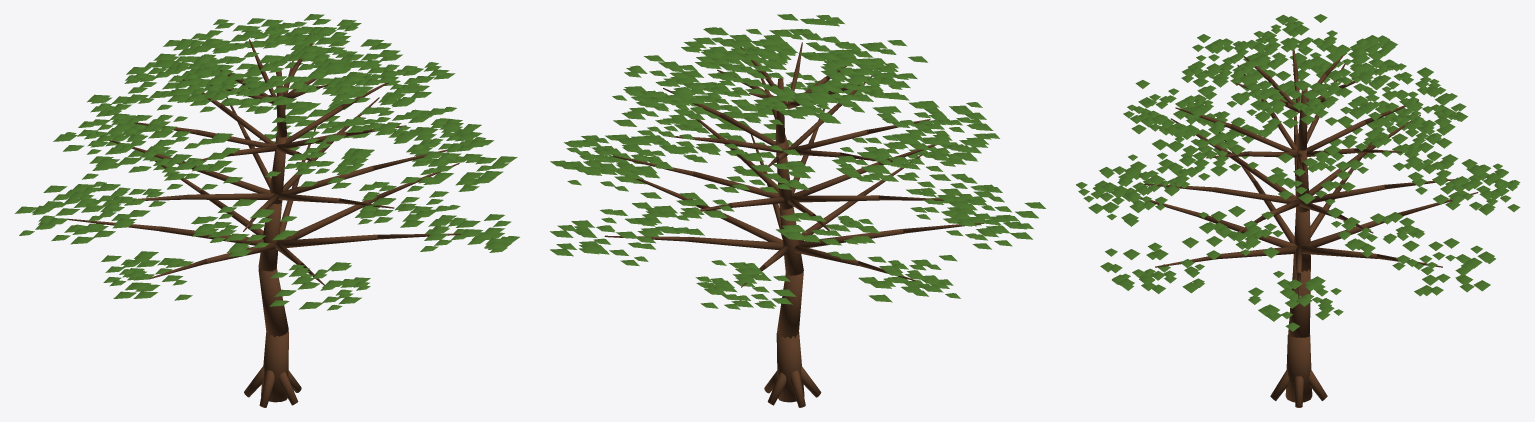
File: CP10a-broadleaf.glb
3 renders of one model, left to right at view 1: azimuth 30°, elevation 25°; view 2: azimuth 150°, elevation 25°; view 3: azimuth 270°, elevation 25°, orthographic. The views are drawn at different scales.
Parts seen in each view (by area): view 1: CP10a-broadleaf; view 2: CP10a-broadleaf; view 3: CP10a-broadleaf.
Boxes of the visible parts, box(x1,y1,x2,y2) form: CP10a-broadleaf: box(14, 14, 519, 407); CP10a-broadleaf: box(550, 14, 1045, 407); CP10a-broadleaf: box(1076, 14, 1520, 407).
Bounding box in the file's own units: 14.5 × 10.75 × 12.8.
